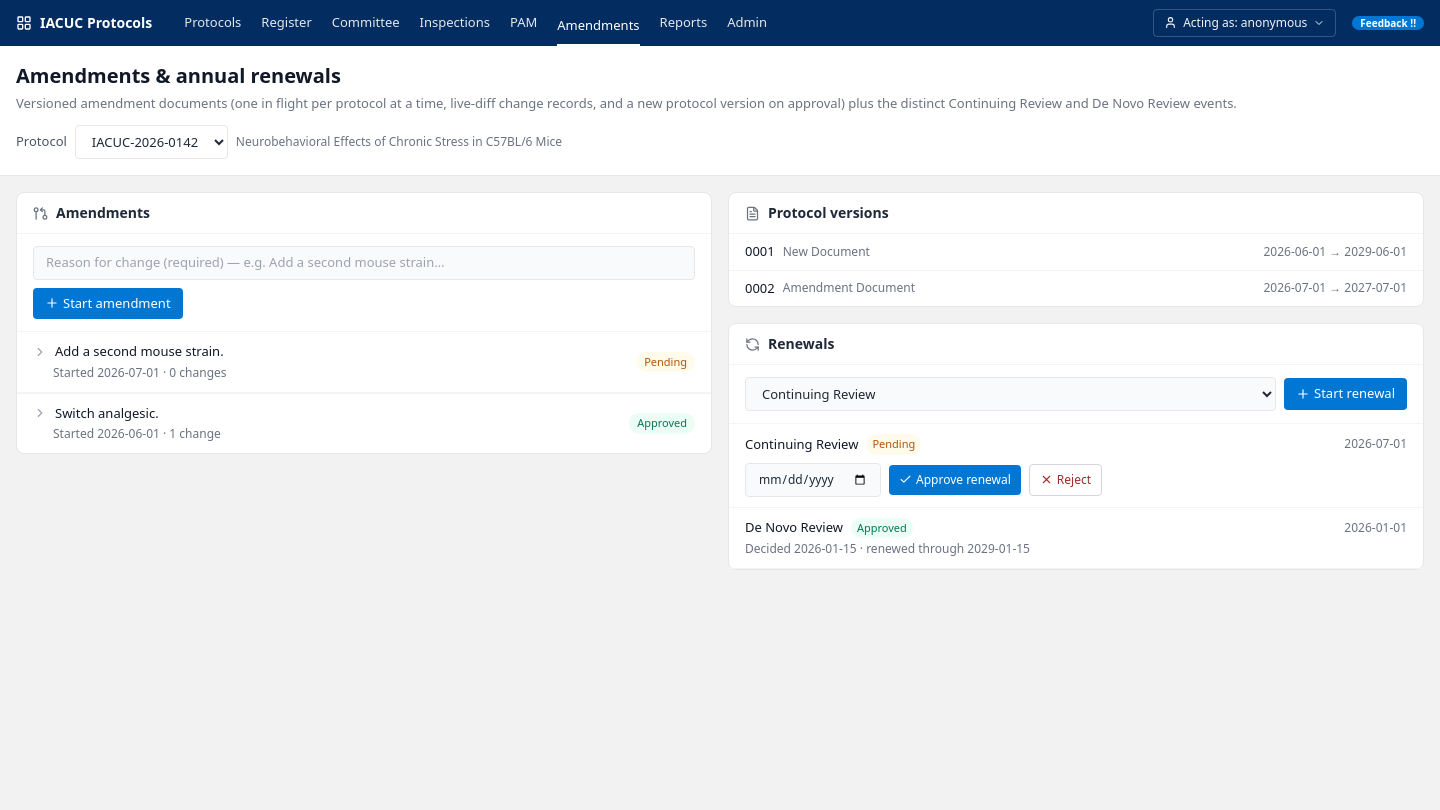
Test: AmendmentsPage — rendering › renders the selected protocol, amendments, versions, and renewals
Expected: the heading "Amendments & annual renewals" is shown, [16,62,341,88]
Expected: the text "Add a second mouse strain." is shown, [55,342,224,362]
# Live-diff change record lives inside the expanded approved card
Step 1. Click the text "Switch analgesic." → click(107, 413), box [55,404,159,423]
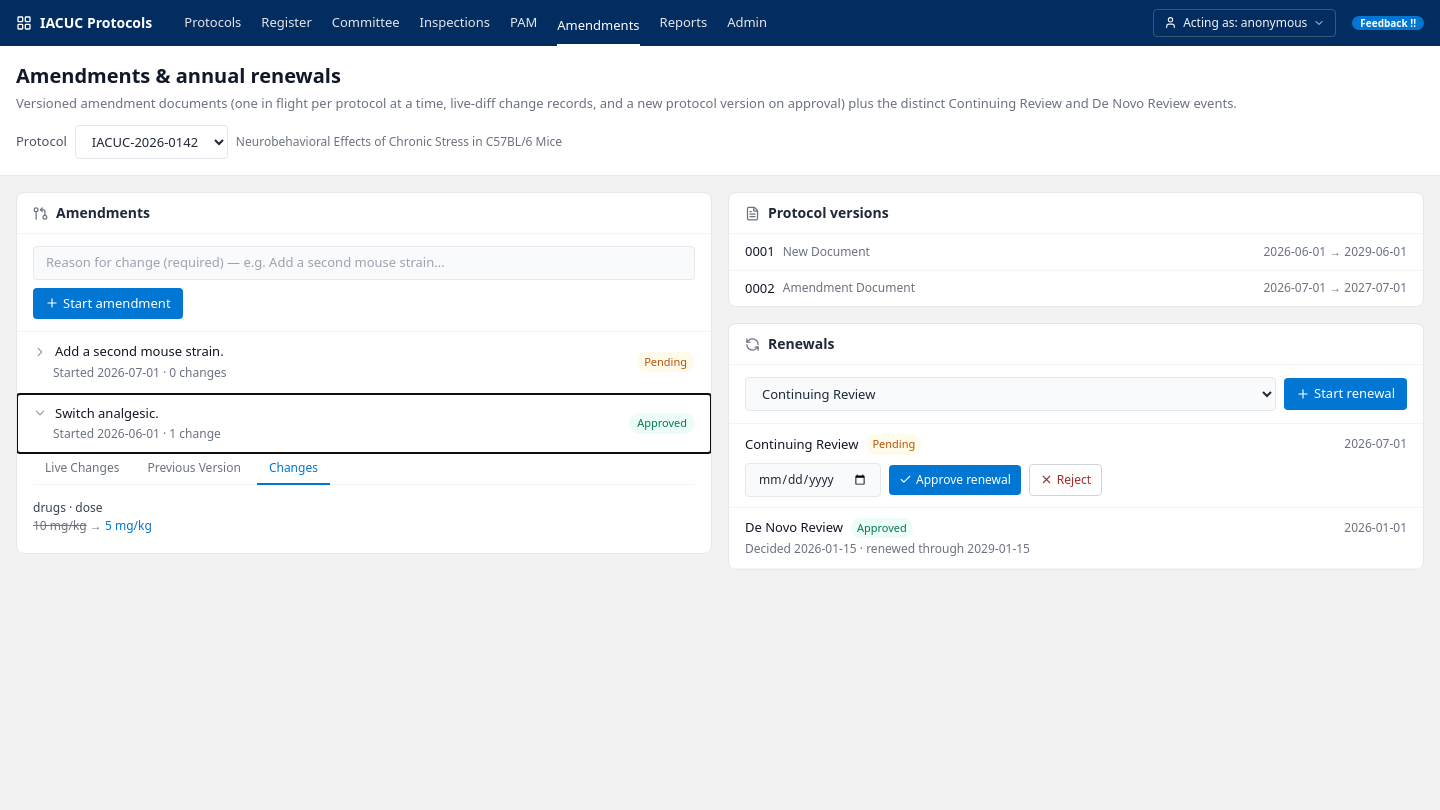
Now the text "drugs · dose" is shown, box [33,499,102,516]
Now the text "10 mg/kg" is shown, box [33,517,87,534]
Now the text "5 mg/kg" is shown, box [105,517,152,534]
